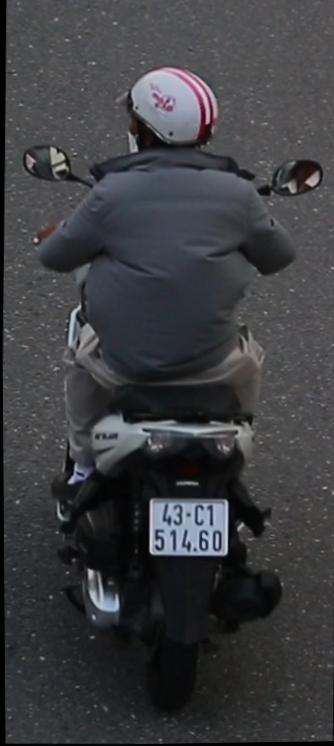LP: (144, 489, 231, 562)
helmet: (118, 59, 225, 171)
